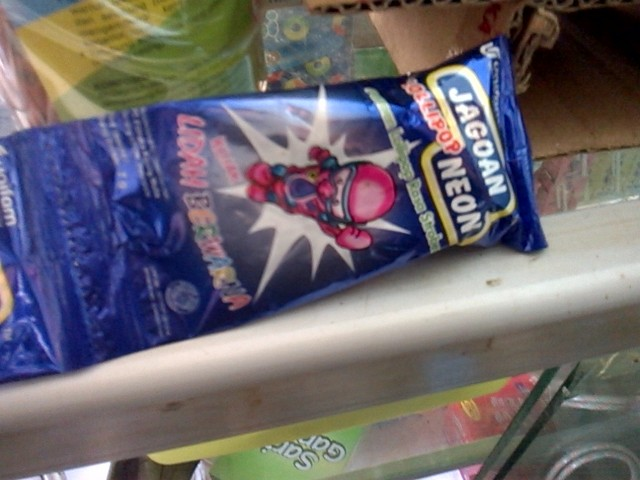jagoan neon: (49, 37, 552, 361)
